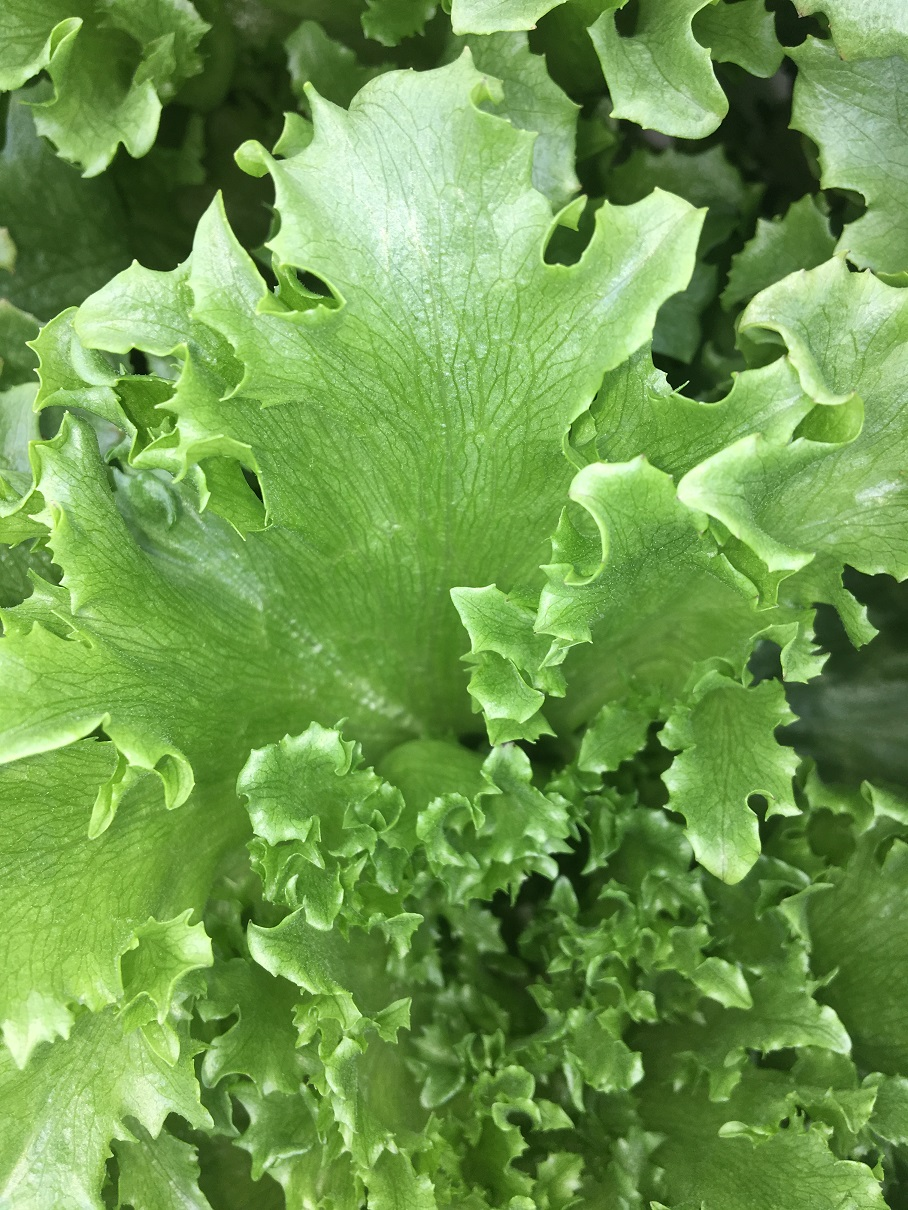tipburn: (831, 41, 867, 72), (819, 10, 849, 40), (786, 4, 816, 32)
